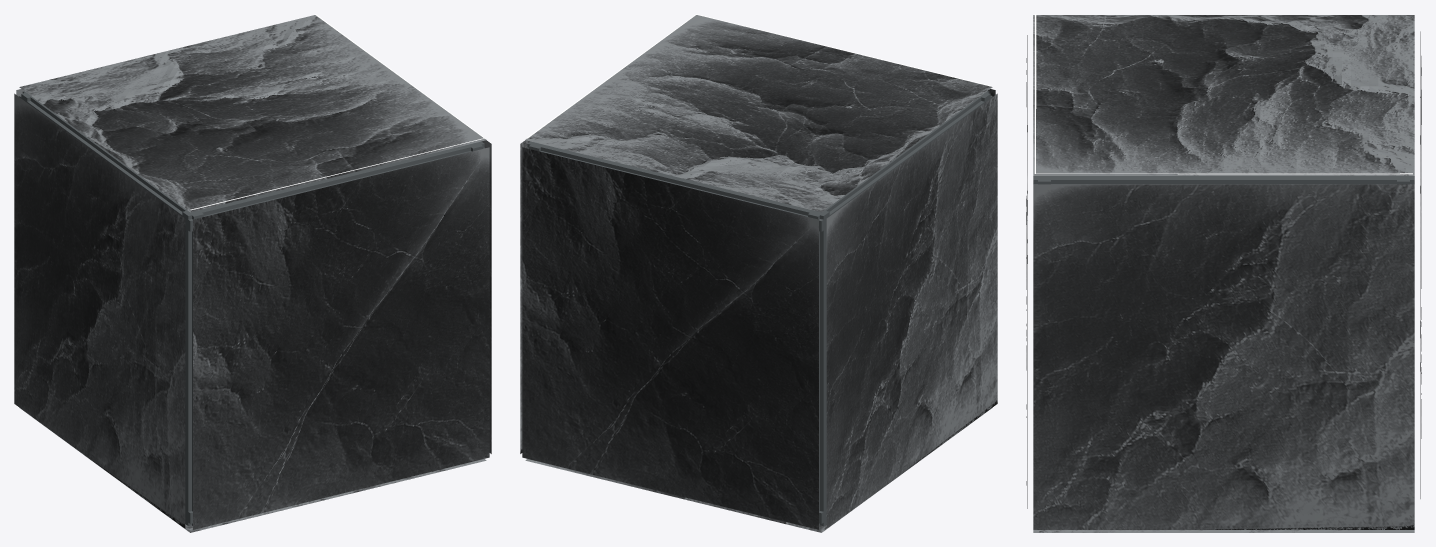
File: stone-cube-canonical.glb
3 views of the same model, side by side, from view 1: azimuth 30°, elevation 25°; view 2: azimuth 150°, elevation 25°; view 3: azimuth 270°, elevation 25° (orthographic). The views are drawn at different scales.
Visible parts, largest first — view 1: stone_front, stone_left, stone_top, shell_front, shell_top, shell_left, stone_bottom, stone_right, seam_top; view 2: stone_back, stone_left, stone_top, shell_back, shell_top, shell_left, stone_bottom, stone_right, seam_top; view 3: stone_right, stone_top, shell_right, stone_bottom, seam_top, stone_back, stone_front.
Part boxes in pixels (<box>): stone_front: <box>193,147,489,529</box>; stone_left: <box>14,93,185,528</box>; stone_top: <box>19,15,486,212</box>; shell_front: <box>182,141,484,525</box>; shell_top: <box>19,95,485,231</box>; shell_left: <box>22,91,203,525</box>; stone_bottom: <box>20,408,486,532</box>; stone_right: <box>481,140,491,453</box>; seam_top: <box>190,14,484,210</box>; stone_back: <box>522,147,818,529</box>; stone_left: <box>826,93,997,528</box>; stone_top: <box>525,15,992,212</box>; shell_back: <box>527,141,829,525</box>; shell_top: <box>526,95,992,231</box>; shell_left: <box>808,91,989,525</box>; stone_bottom: <box>525,408,991,532</box>; stone_right: <box>520,140,529,453</box>; seam_top: <box>526,14,990,138</box>; stone_right: <box>1033,184,1414,529</box>; stone_top: <box>1033,15,1414,175</box>; shell_right: <box>1033,176,1414,183</box>; stone_bottom: <box>1033,530,1414,532</box>; seam_top: <box>1034,14,1412,174</box>; stone_back: <box>1420,31,1421,498</box>; stone_front: <box>1026,35,1027,508</box>.
Bounding box in the file's own units: 2.04 × 2.06 × 2.04.
10 materials, 6 textured.
